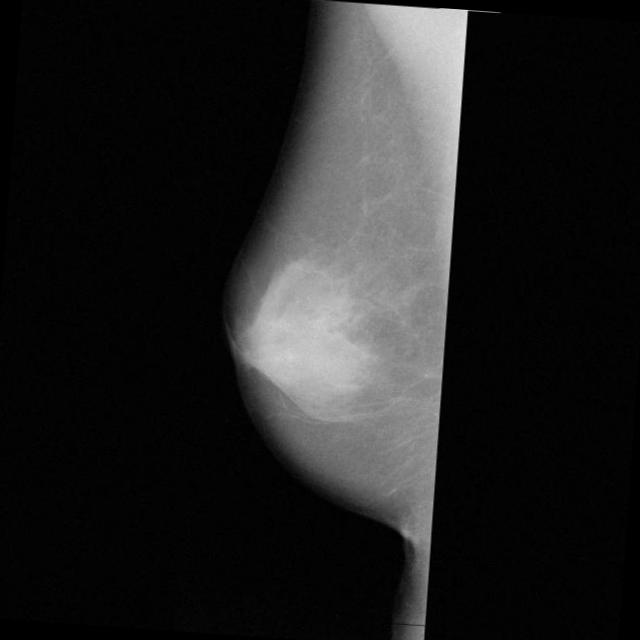ARCH: (306, 307, 362, 363)
